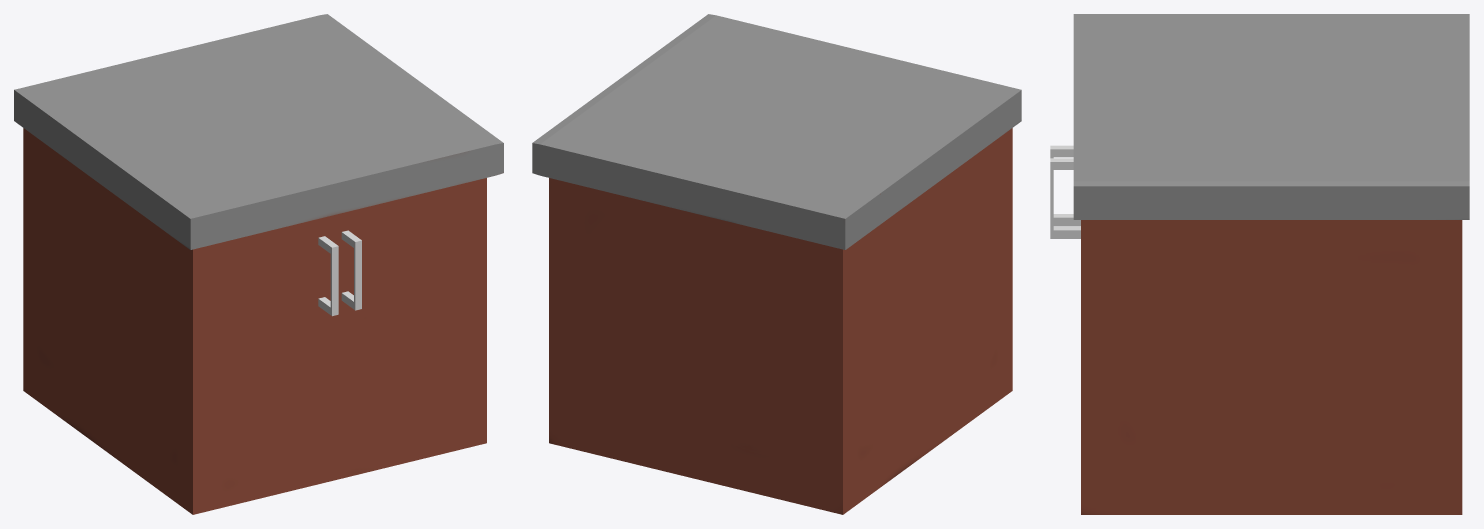
File: Cupboard.fbx
The picture shows the model from 3 angles, left to right: view 1: azimuth 30°, elevation 25°; view 2: azimuth 150°, elevation 25°; view 3: azimuth 270°, elevation 25°; orthographic projection. The views are drawn at different scales.
Parts seen in each view (by area): view 1: Cube, Cube.001; view 2: Cube; view 3: Cube, Cube.001.
Boxes of the visible parts, left/top/right/bottom form: Cube: left=14, top=14, right=503, bottom=514; Cube.001: left=318, top=230, right=361, bottom=316; Cube: left=532, top=14, right=1021, bottom=514; Cube: left=1073, top=14, right=1469, bottom=514; Cube.001: left=1050, top=145, right=1080, bottom=238.
Bounding box in the file's own units: 205 × 188 × 212.
